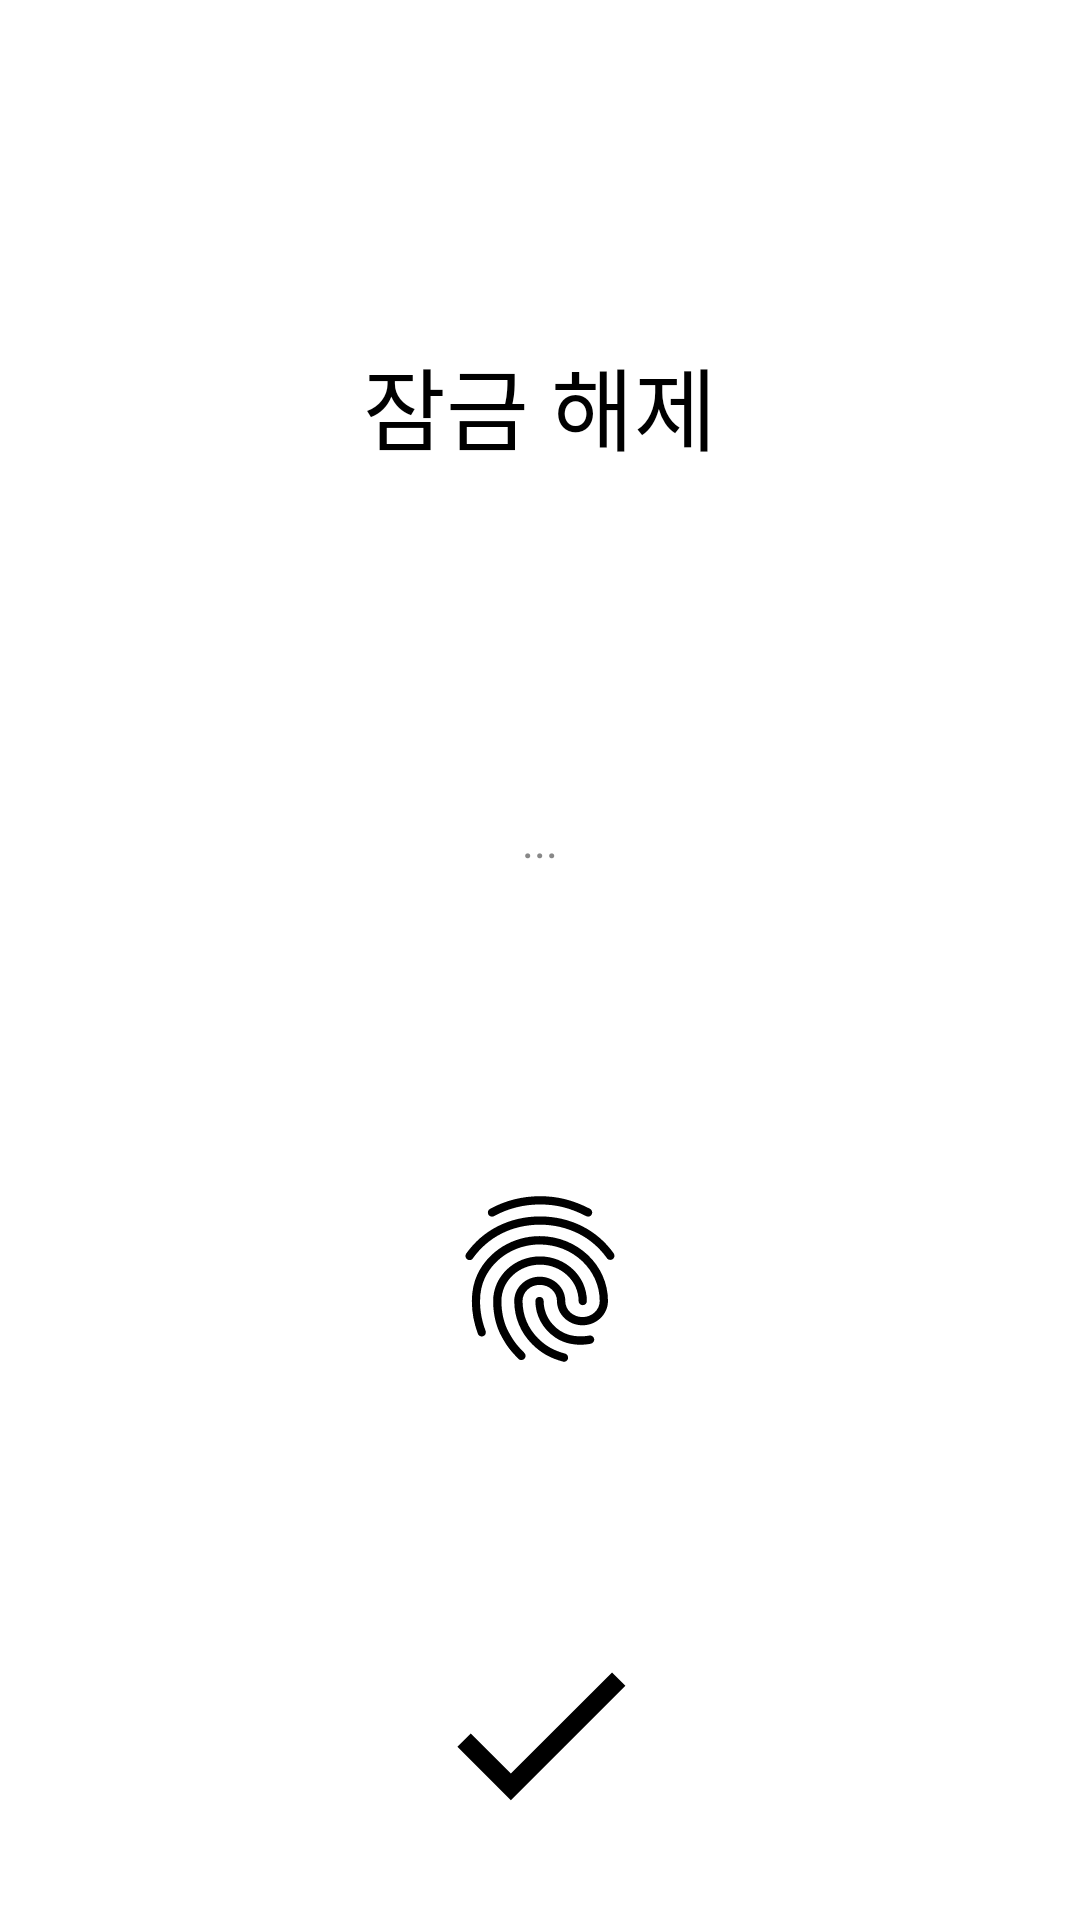

Where to tap for icons on this 1080x1920 app screen, as (x=x, y=y):
done: (x=541, y=1736)
fingerprint: (x=540, y=1279)
